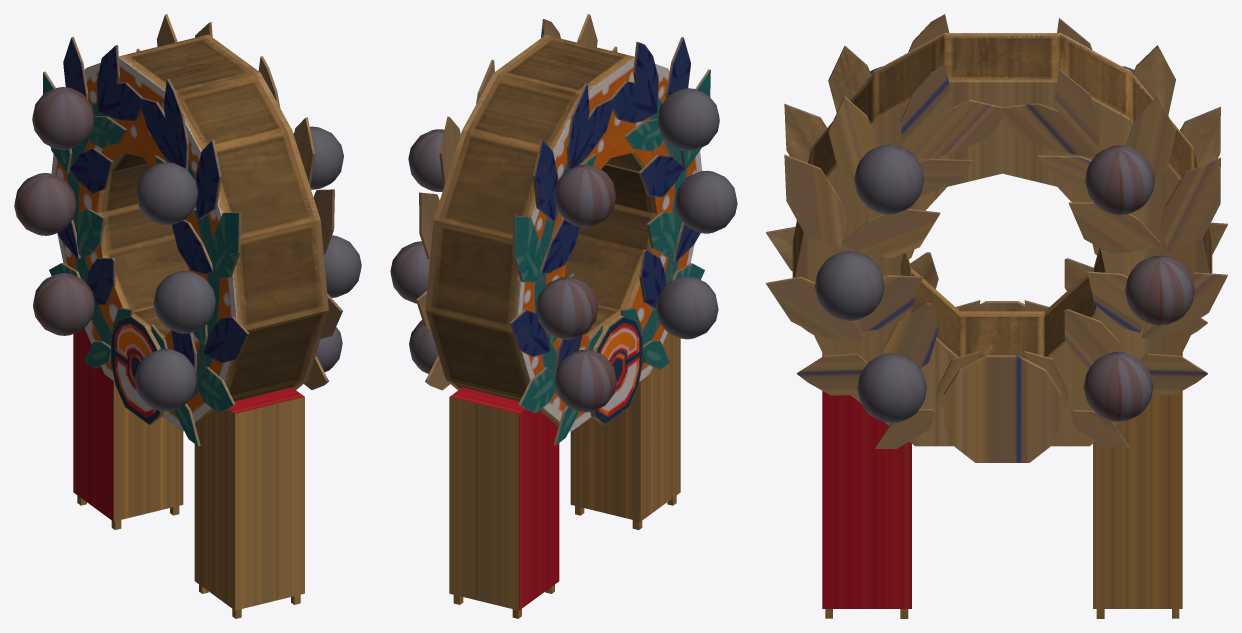
Rendered from objects_un_c01championgate01.gltf.
The picture shows the model from 3 angles, left to right: view 1: azimuth 30°, elevation 25°; view 2: azimuth 150°, elevation 25°; view 3: azimuth 270°, elevation 25°; orthographic projection. The views are drawn at different scales.
Visible parts, largest first — view 1: um_objects_un_c01championgate01_model_lod0Shape:objects_un_c (×4), um_objects_un_c01championgate01_model_lod1Shape:objects_un_c, um_objects_un_c01championgate01_model_lod2Shape:objects_un_c; view 2: um_objects_un_c01championgate01_model_lod0Shape:objects_un_c (×4), um_objects_un_c01championgate01_model_lod1Shape:objects_un_c, um_objects_un_c01championgate01_model_lod2Shape:objects_un_c; view 3: um_objects_un_c01championgate01_model_lod0Shape:objects_un_c (×4), um_objects_un_c01championgate01_model_lod1Shape:objects_un_c, um_objects_un_c01championgate01_model_lod2Shape:objects_un_c.
Part boxes in pixels (x1,y1,x2,y2): um_objects_un_c01championgate01_model_lod0Shape:objects_un_c (×4): [14, 14, 361, 618]; um_objects_un_c01championgate01_model_lod1Shape:objects_un_c: [102, 35, 323, 426]; um_objects_un_c01championgate01_model_lod2Shape:objects_un_c: [97, 35, 328, 388]; um_objects_un_c01championgate01_model_lod0Shape:objects_un_c (×4): [390, 14, 737, 618]; um_objects_un_c01championgate01_model_lod1Shape:objects_un_c: [430, 36, 651, 426]; um_objects_un_c01championgate01_model_lod2Shape:objects_un_c: [425, 35, 656, 422]; um_objects_un_c01championgate01_model_lod0Shape:objects_un_c (×4): [766, 14, 1227, 618]; um_objects_un_c01championgate01_model_lod1Shape:objects_un_c: [792, 35, 1212, 339]; um_objects_un_c01championgate01_model_lod2Shape:objects_un_c: [792, 33, 1212, 358].
Size of the model in its own units: 4.13 by 9.94 by 7.41.
4 materials, 4 textured.
